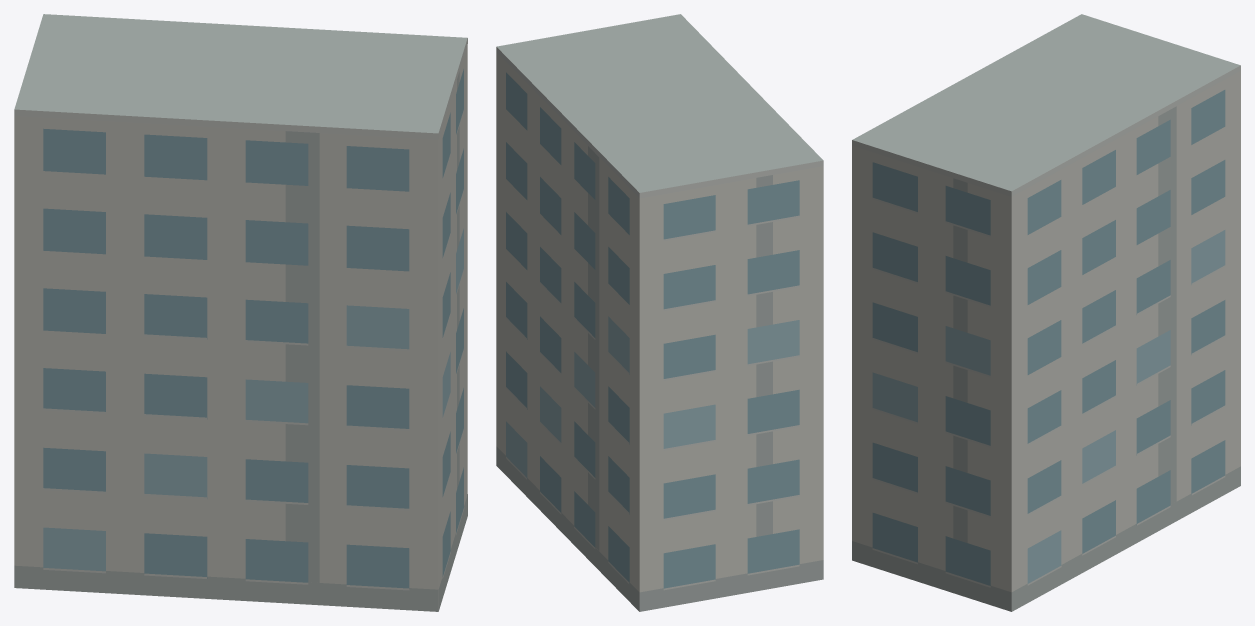
The model's file is survey-upis-32927407.glb.
3 views of the same model, side by side, from view 1: azimuth 30°, elevation 25°; view 2: azimuth 150°, elevation 25°; view 3: azimuth 270°, elevation 25° (orthographic). The views are drawn at different scales.
Parts seen in each view (by area): view 1: survey-upis-32927407.tmp; view 2: survey-upis-32927407.tmp; view 3: survey-upis-32927407.tmp.
Part boxes in pixels (x1,y1,x2,y2): survey-upis-32927407.tmp: [14, 14, 467, 611]; survey-upis-32927407.tmp: [496, 14, 823, 611]; survey-upis-32927407.tmp: [852, 14, 1240, 611].
Bounding box in the file's own units: 16.74 × 18.5 × 15.51.
